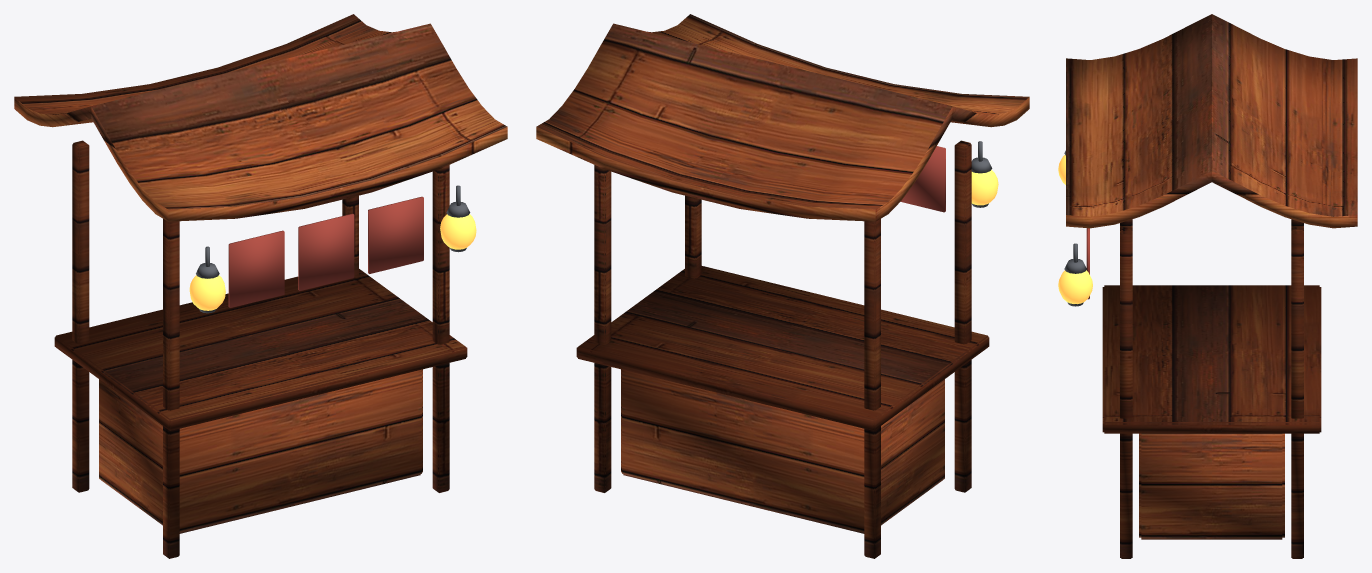
File: yatai_stall_v1.glb
3 views of the same model, side by side, from view 1: azimuth 30°, elevation 25°; view 2: azimuth 150°, elevation 25°; view 3: azimuth 270°, elevation 25° (orthographic). The views are drawn at different scales.
Visible parts, largest first — view 1: yatai_cedar, yatai_charred, yatai_cloth, yatai_chochin, yatai_iron; view 2: yatai_cedar, yatai_charred, yatai_cloth, yatai_chochin; view 3: yatai_cedar, yatai_charred, yatai_chochin, yatai_iron.
Boxes of the visible parts, x1,y1,x2,y2 form: yatai_cedar: [14, 14, 507, 533]; yatai_charred: [54, 140, 467, 558]; yatai_cloth: [228, 196, 423, 307]; yatai_chochin: [189, 214, 476, 310]; yatai_iron: [196, 185, 470, 313]; yatai_cedar: [536, 14, 1029, 533]; yatai_charred: [576, 140, 989, 558]; yatai_cloth: [900, 146, 945, 212]; yatai_chochin: [971, 170, 998, 205]; yatai_cedar: [1066, 14, 1357, 539]; yatai_charred: [1102, 219, 1321, 558]; yatai_chochin: [1058, 155, 1092, 304]; yatai_iron: [1064, 150, 1086, 306].
Bounding box in the file's own units: 2.34 × 2.8 × 1.89.
Materials: 5 (2 with a texture image).
